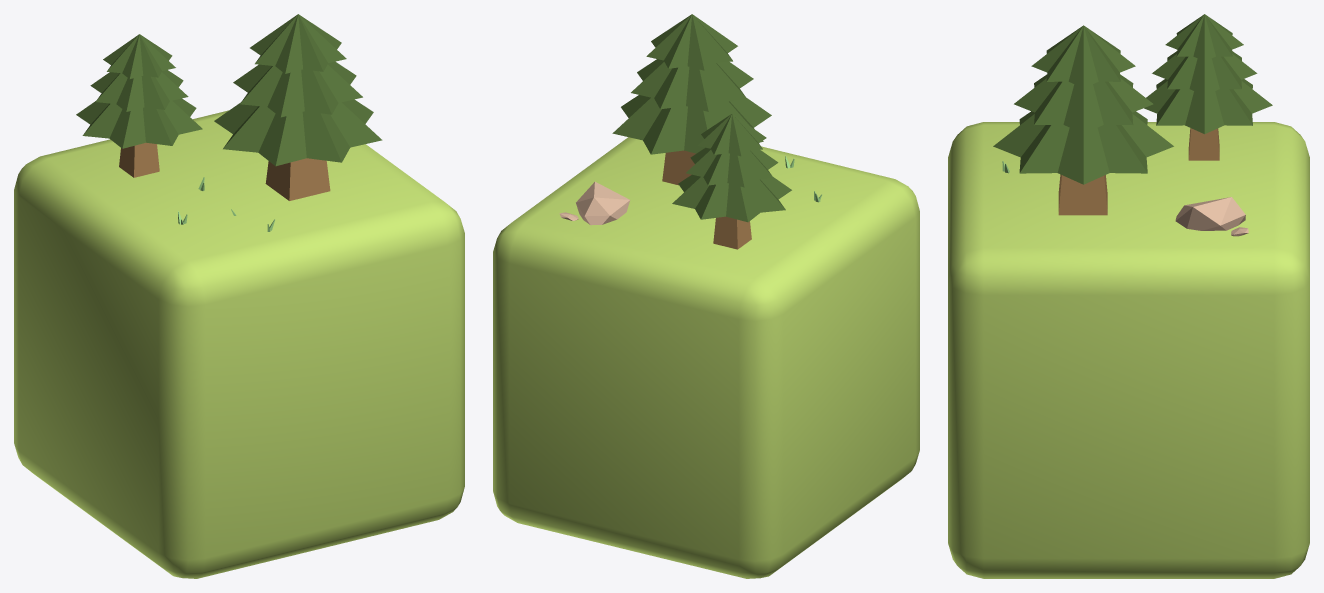
The model's file is forest3.fbx.
The picture shows the model from 3 angles, left to right: view 1: azimuth 30°, elevation 25°; view 2: azimuth 150°, elevation 25°; view 3: azimuth 270°, elevation 25°; orthographic projection. The views are drawn at different scales.
Visible parts, largest first — view 1: Cube.002, Cone, Cone.001, Cone.005, Cone.002, Cone.004, Cube, Cone.003, Cube.001; view 2: Cube.002, Cone, Cone.001, Cone.005, Cone.002, Cone.004, Cone.003, Icosphere, Cube.001, Cube; view 3: Cube.002, Cone, Cone.001, Cone.005, Cone.002, Cone.004, Cone.003, Cube, Icosphere, Cube.001.
Boxes of the visible parts, x1,y1,x2,y2 form: Cube.002: [14, 110, 464, 578]; Cone: [214, 99, 382, 166]; Cone.001: [233, 61, 362, 117]; Cone.005: [76, 98, 202, 148]; Cone.002: [250, 14, 346, 73]; Cone.004: [90, 70, 188, 111]; Cube: [265, 158, 330, 200]; Cone.003: [103, 34, 175, 78]; Cube.001: [119, 142, 159, 177]; Cube.002: [493, 137, 919, 578]; Cone: [612, 95, 771, 154]; Cone.001: [631, 59, 753, 111]; Cone.005: [672, 174, 791, 222]; Cone.002: [646, 14, 737, 70]; Cone.004: [686, 147, 778, 187]; Cone.003: [697, 114, 766, 156]; Icosphere: [576, 181, 630, 225]; Cube.001: [713, 216, 751, 249]; Cube: [662, 150, 695, 185]; Cube.002: [948, 122, 1309, 578]; Cone: [993, 111, 1173, 184]; Cone.001: [1014, 74, 1153, 133]; Cone.005: [1144, 79, 1272, 134]; Cone.002: [1031, 25, 1135, 88]; Cone.004: [1152, 51, 1257, 95]; Cone.003: [1165, 14, 1243, 61]; Cube: [1058, 174, 1107, 215]; Icosphere: [1175, 197, 1245, 230]; Cube.001: [1188, 128, 1219, 160].
Bounding box in the file's own units: 200 × 310 × 200.
